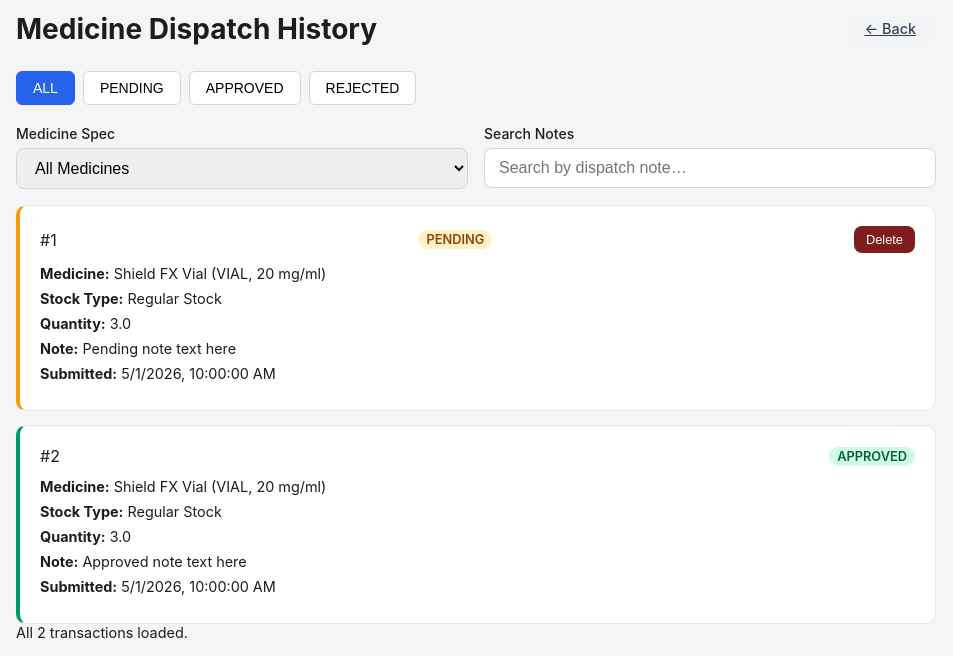
Scenario: MyTransactions — filter tabs › PENDING tab renders only what the server returns for that status
The width and height of the screenshot is (953, 656).
Expected: the text "Pending note text here" is shown, [82, 340, 236, 357]
Click the button "PENDING". click: (132, 88)
box: [83, 71, 181, 105]
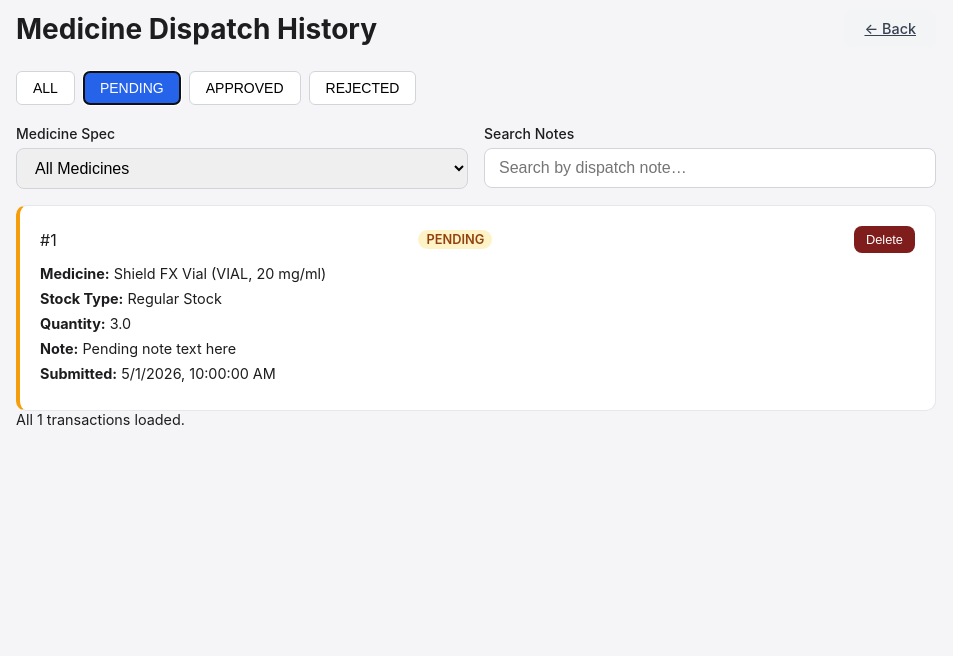
Expected: the text "Pending note text here" is shown, [82, 340, 236, 357]
Result: the text "Approved note text here" is gone
